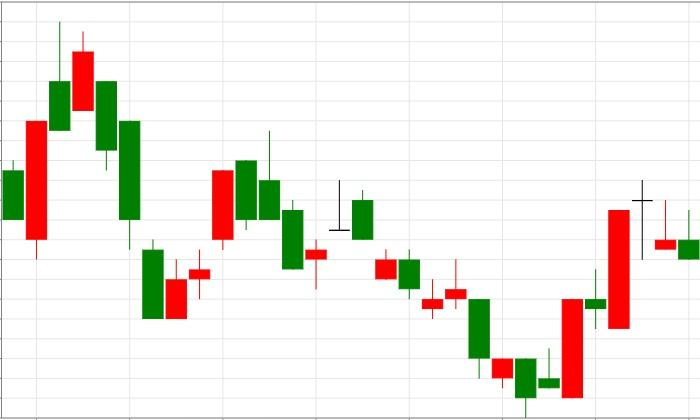three_black_crows_fall: (3, 21, 164, 319)
